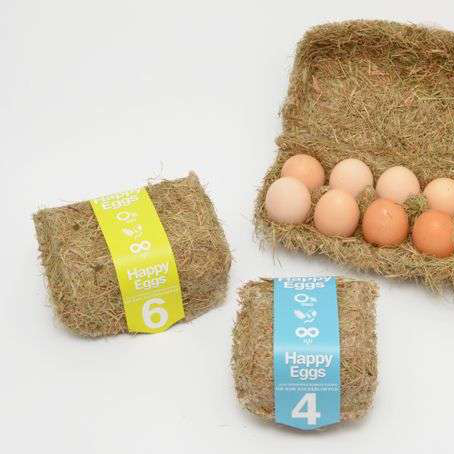egg: (266, 155, 453, 261)
